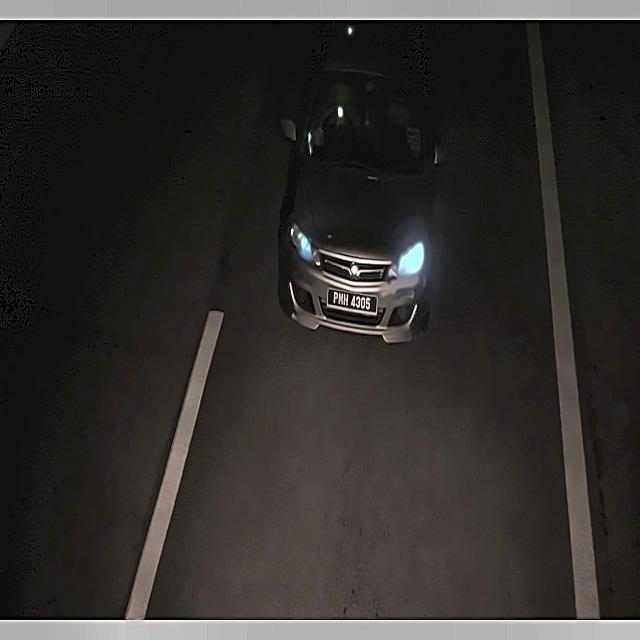car: (324, 283, 384, 318)
